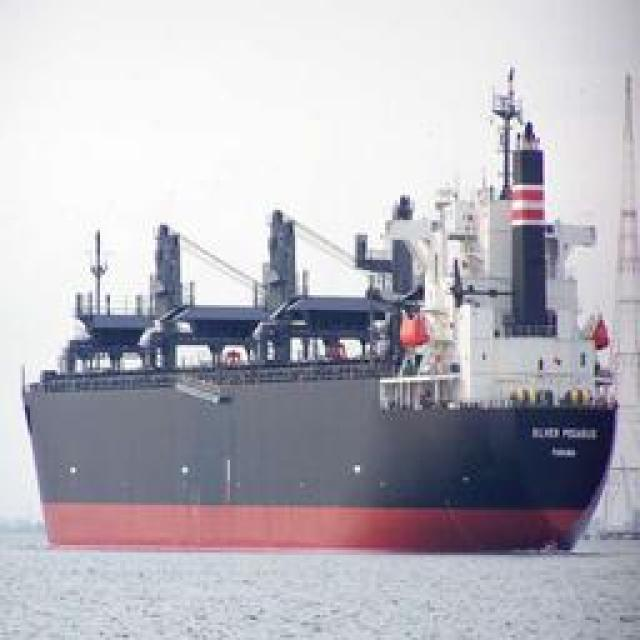ship2: (24, 66, 619, 558)
